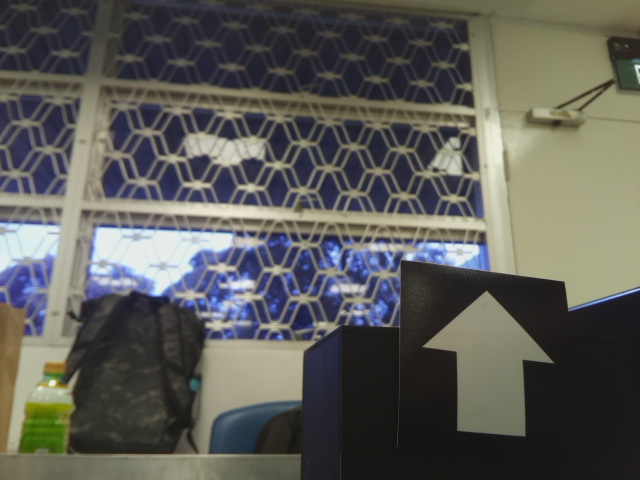up: (407, 271, 560, 457)
